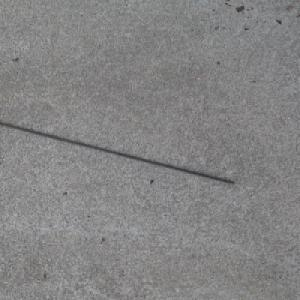LuggagePart: (0, 121, 235, 185)
